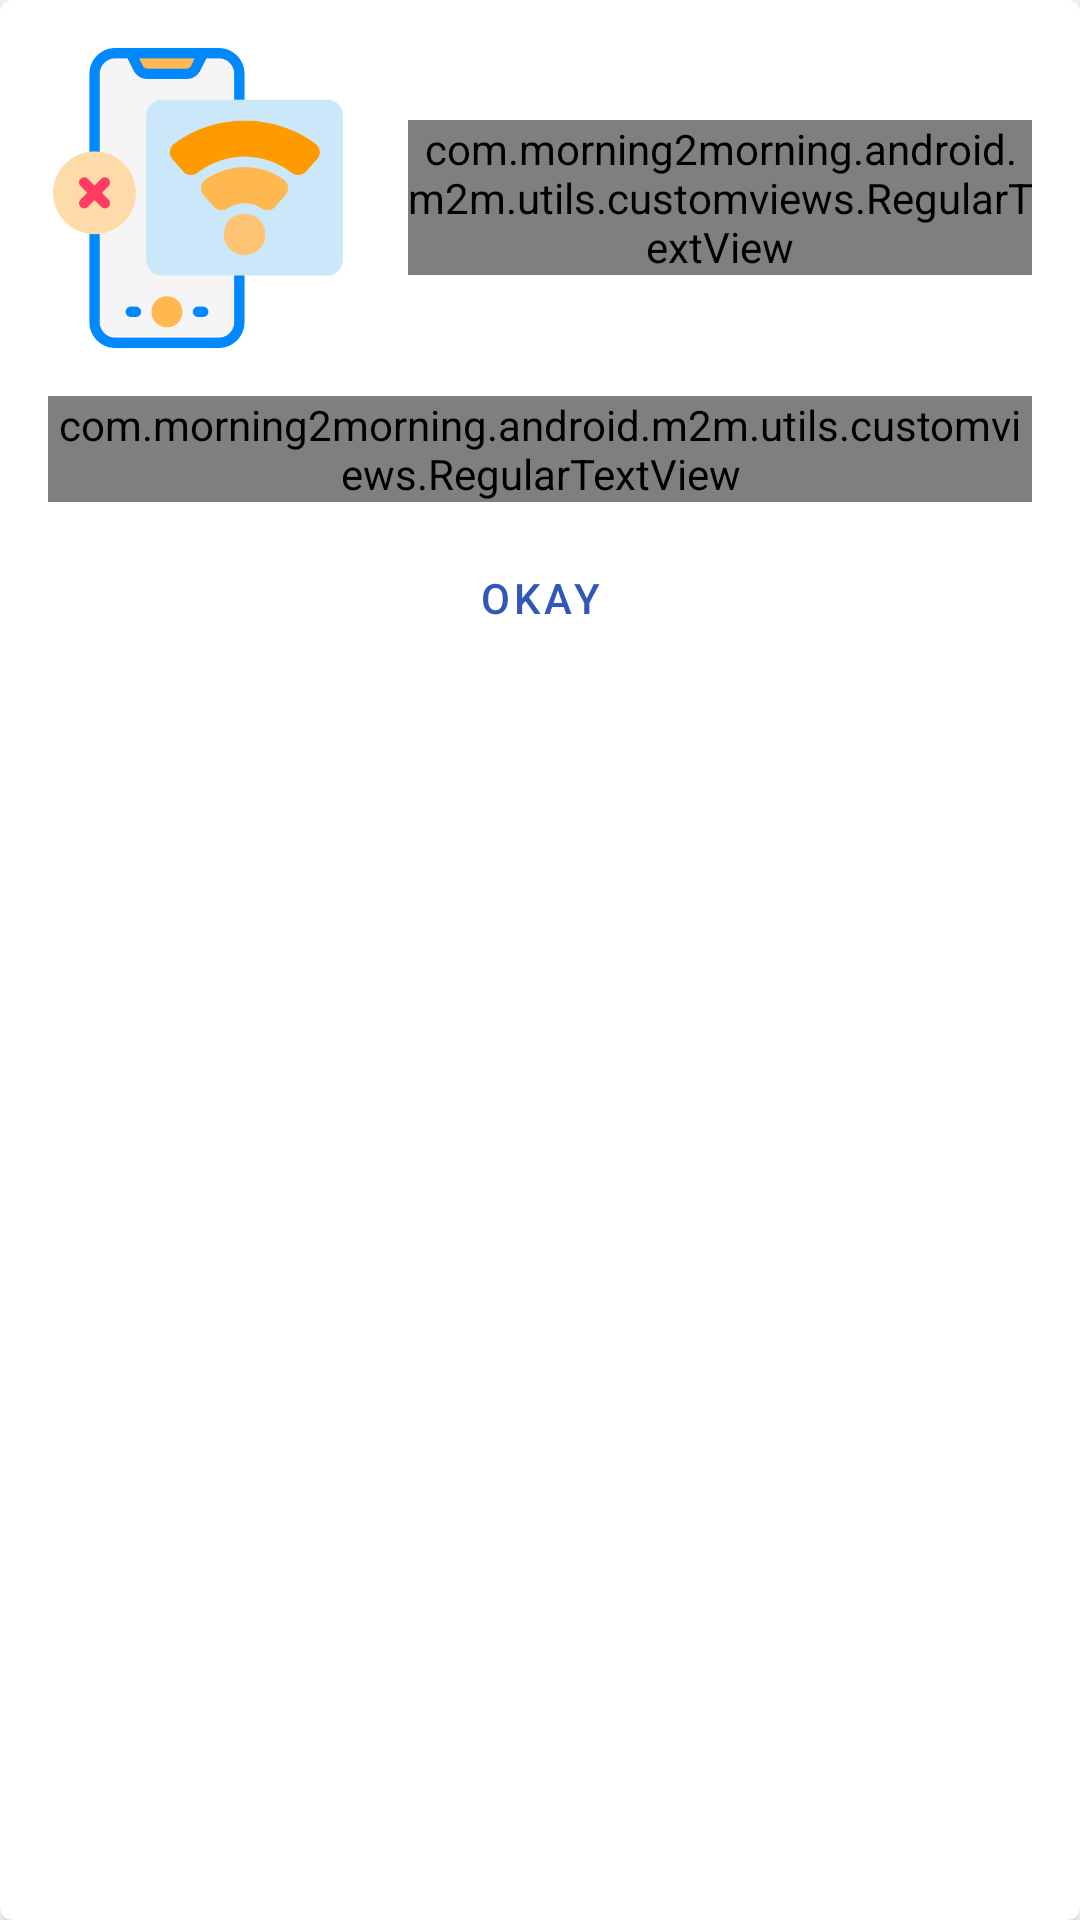

Named icons in this screenshot (1080x1920) and their centers, (x,y):
no connection: (198,198)
